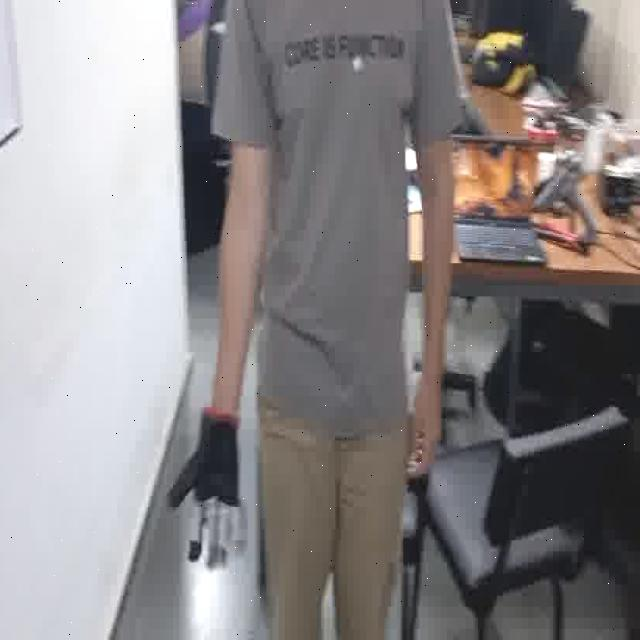Gloves: (168, 407, 256, 579)
